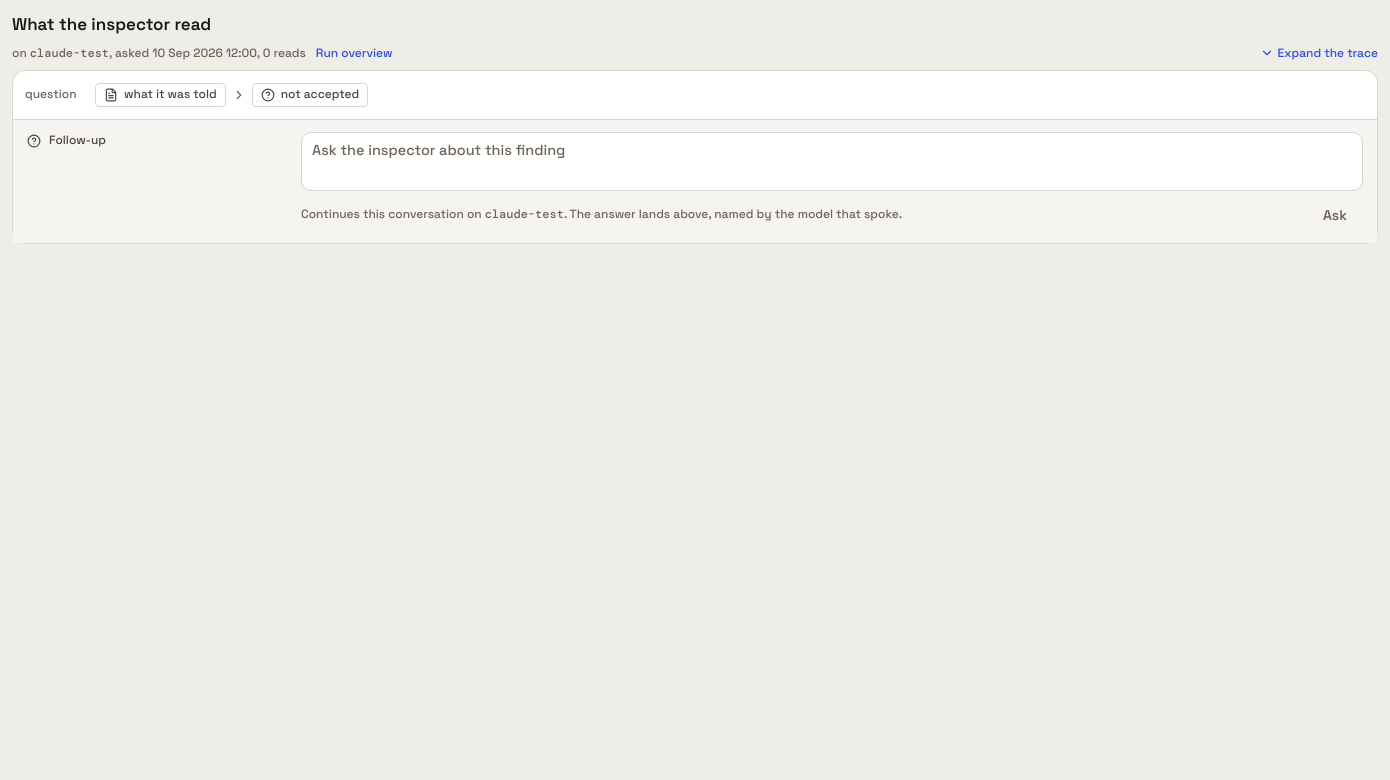
Scenario: Trace › reads a scan's answer as one block per symptom it saw
Click the button "Expand the trace".
click(1319, 53)  # box [1260,45,1378,62]
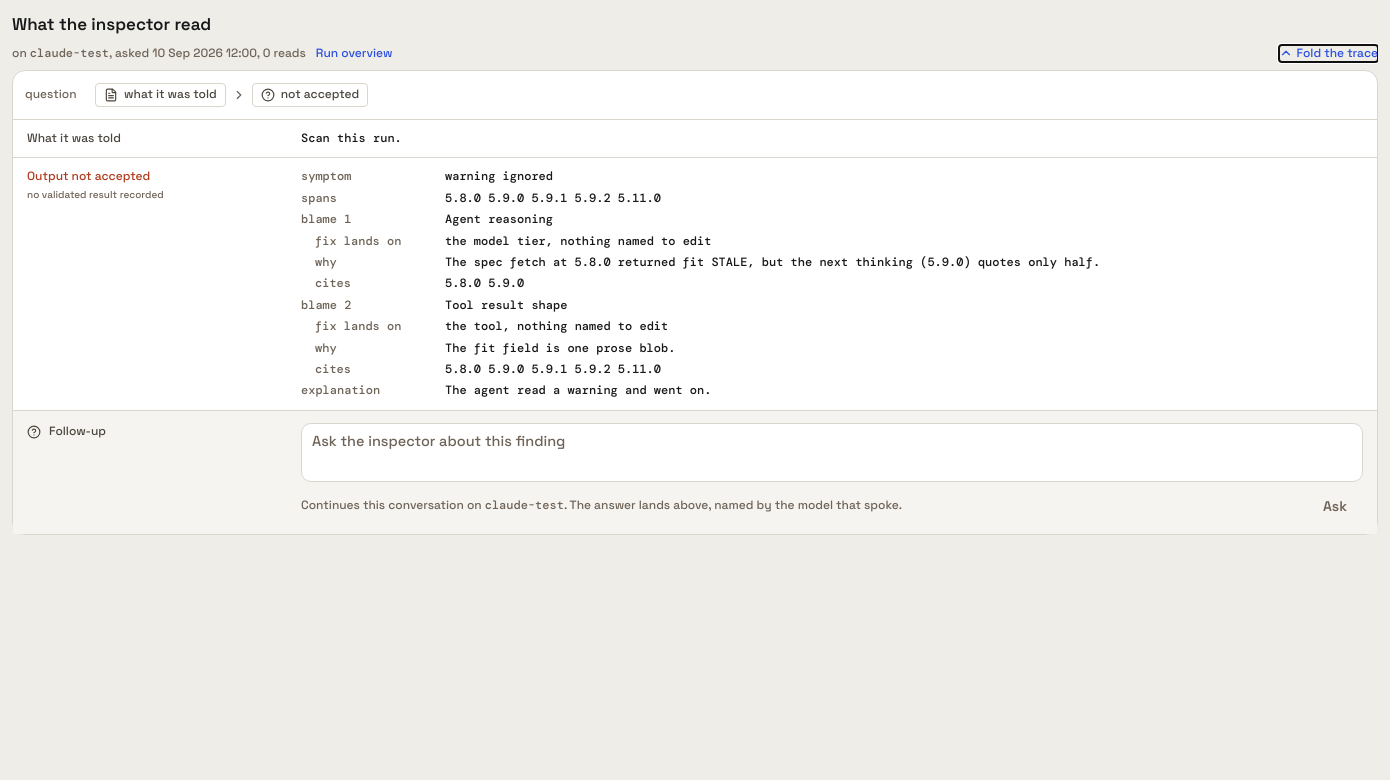
Expected: the text "warning ignored" is shown, [445,168,553,184]
Expected: the text "5.8.0 5.9.0 5.9.1 5.9.2 5.11.0" is shown 2 times, [445,190,661,206]; [445,361,661,377]
Expected: the text "blame 1" is shown, [301,211,351,227]
